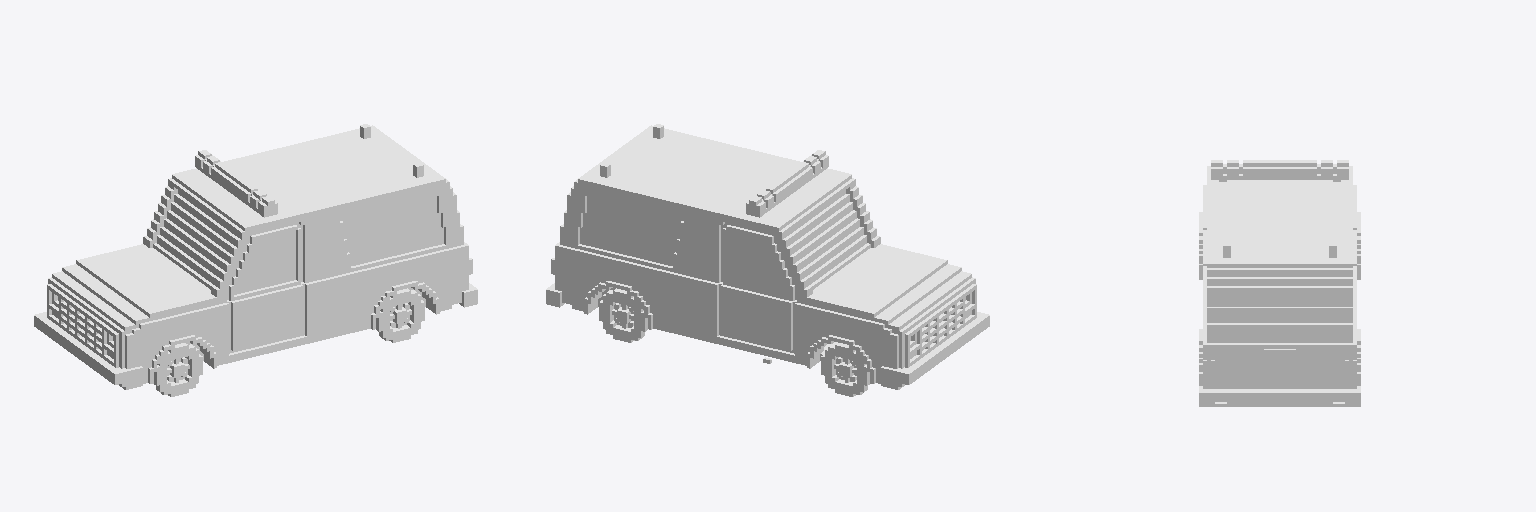
The model's file is Long_car_police.obj.
The picture shows the model from 3 angles: view 1: azimuth 30°, elevation 25°; view 2: azimuth 150°, elevation 25°; view 3: azimuth 270°, elevation 25°; orthographic projection.
Visible parts, largest first — view 1: object 1; view 2: object 1; view 3: object 1.
Part boxes in pixels (x1,y1,x2,y2): object 1: (34,124,477,396); object 1: (546,124,989,396); object 1: (1199,160,1360,406).
Size of the model in its own units: 10.3 by 4.6 by 4.